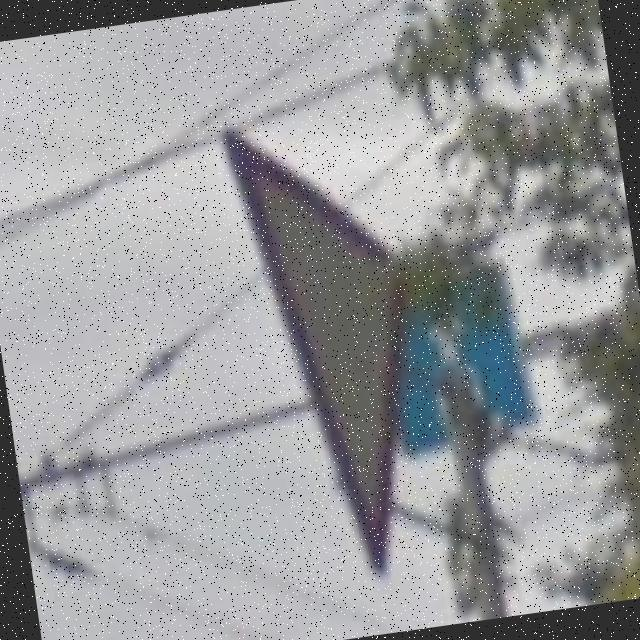Ustap pierwszenstwa: (217, 102, 452, 594)
